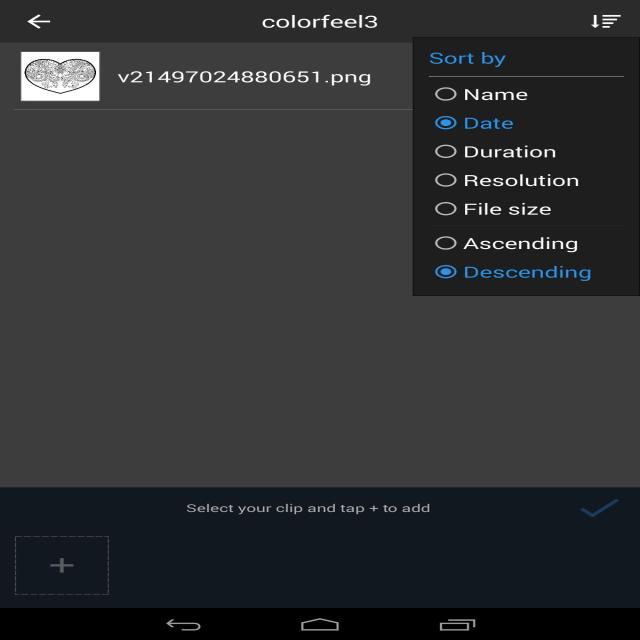button: (4, 44, 414, 110), (11, 532, 112, 598), (576, 492, 640, 522), (589, 8, 628, 34), (23, 1, 52, 34), (431, 143, 460, 161), (434, 172, 459, 190), (433, 200, 458, 218), (433, 86, 459, 103), (436, 114, 458, 133), (434, 237, 458, 250)
heading: (256, 11, 382, 33), (428, 51, 515, 69)
image: (20, 51, 100, 103)
label: (465, 235, 580, 255), (464, 172, 585, 190), (465, 144, 560, 161), (464, 201, 554, 218), (464, 86, 532, 102), (464, 115, 526, 131)
text: (106, 70, 378, 91), (182, 501, 442, 518)
